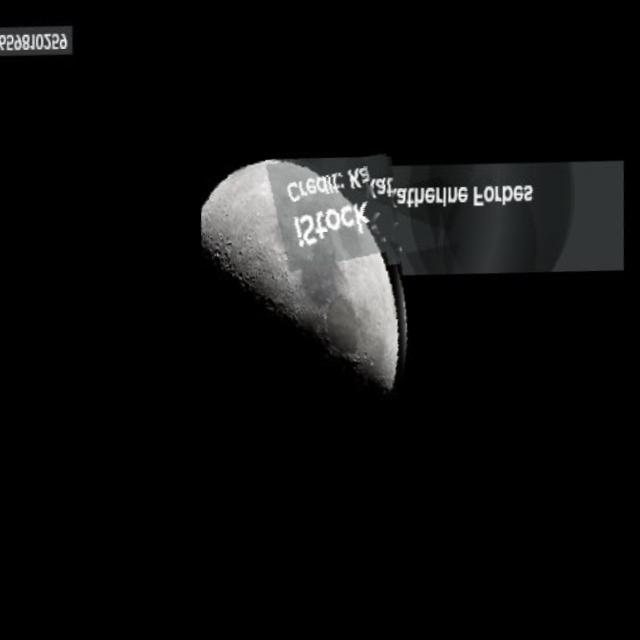moon: (191, 148, 431, 456)
